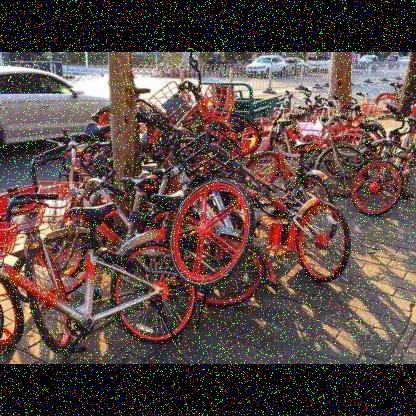Bicycle: (0, 191, 186, 346), (169, 161, 376, 286), (312, 118, 416, 225)
